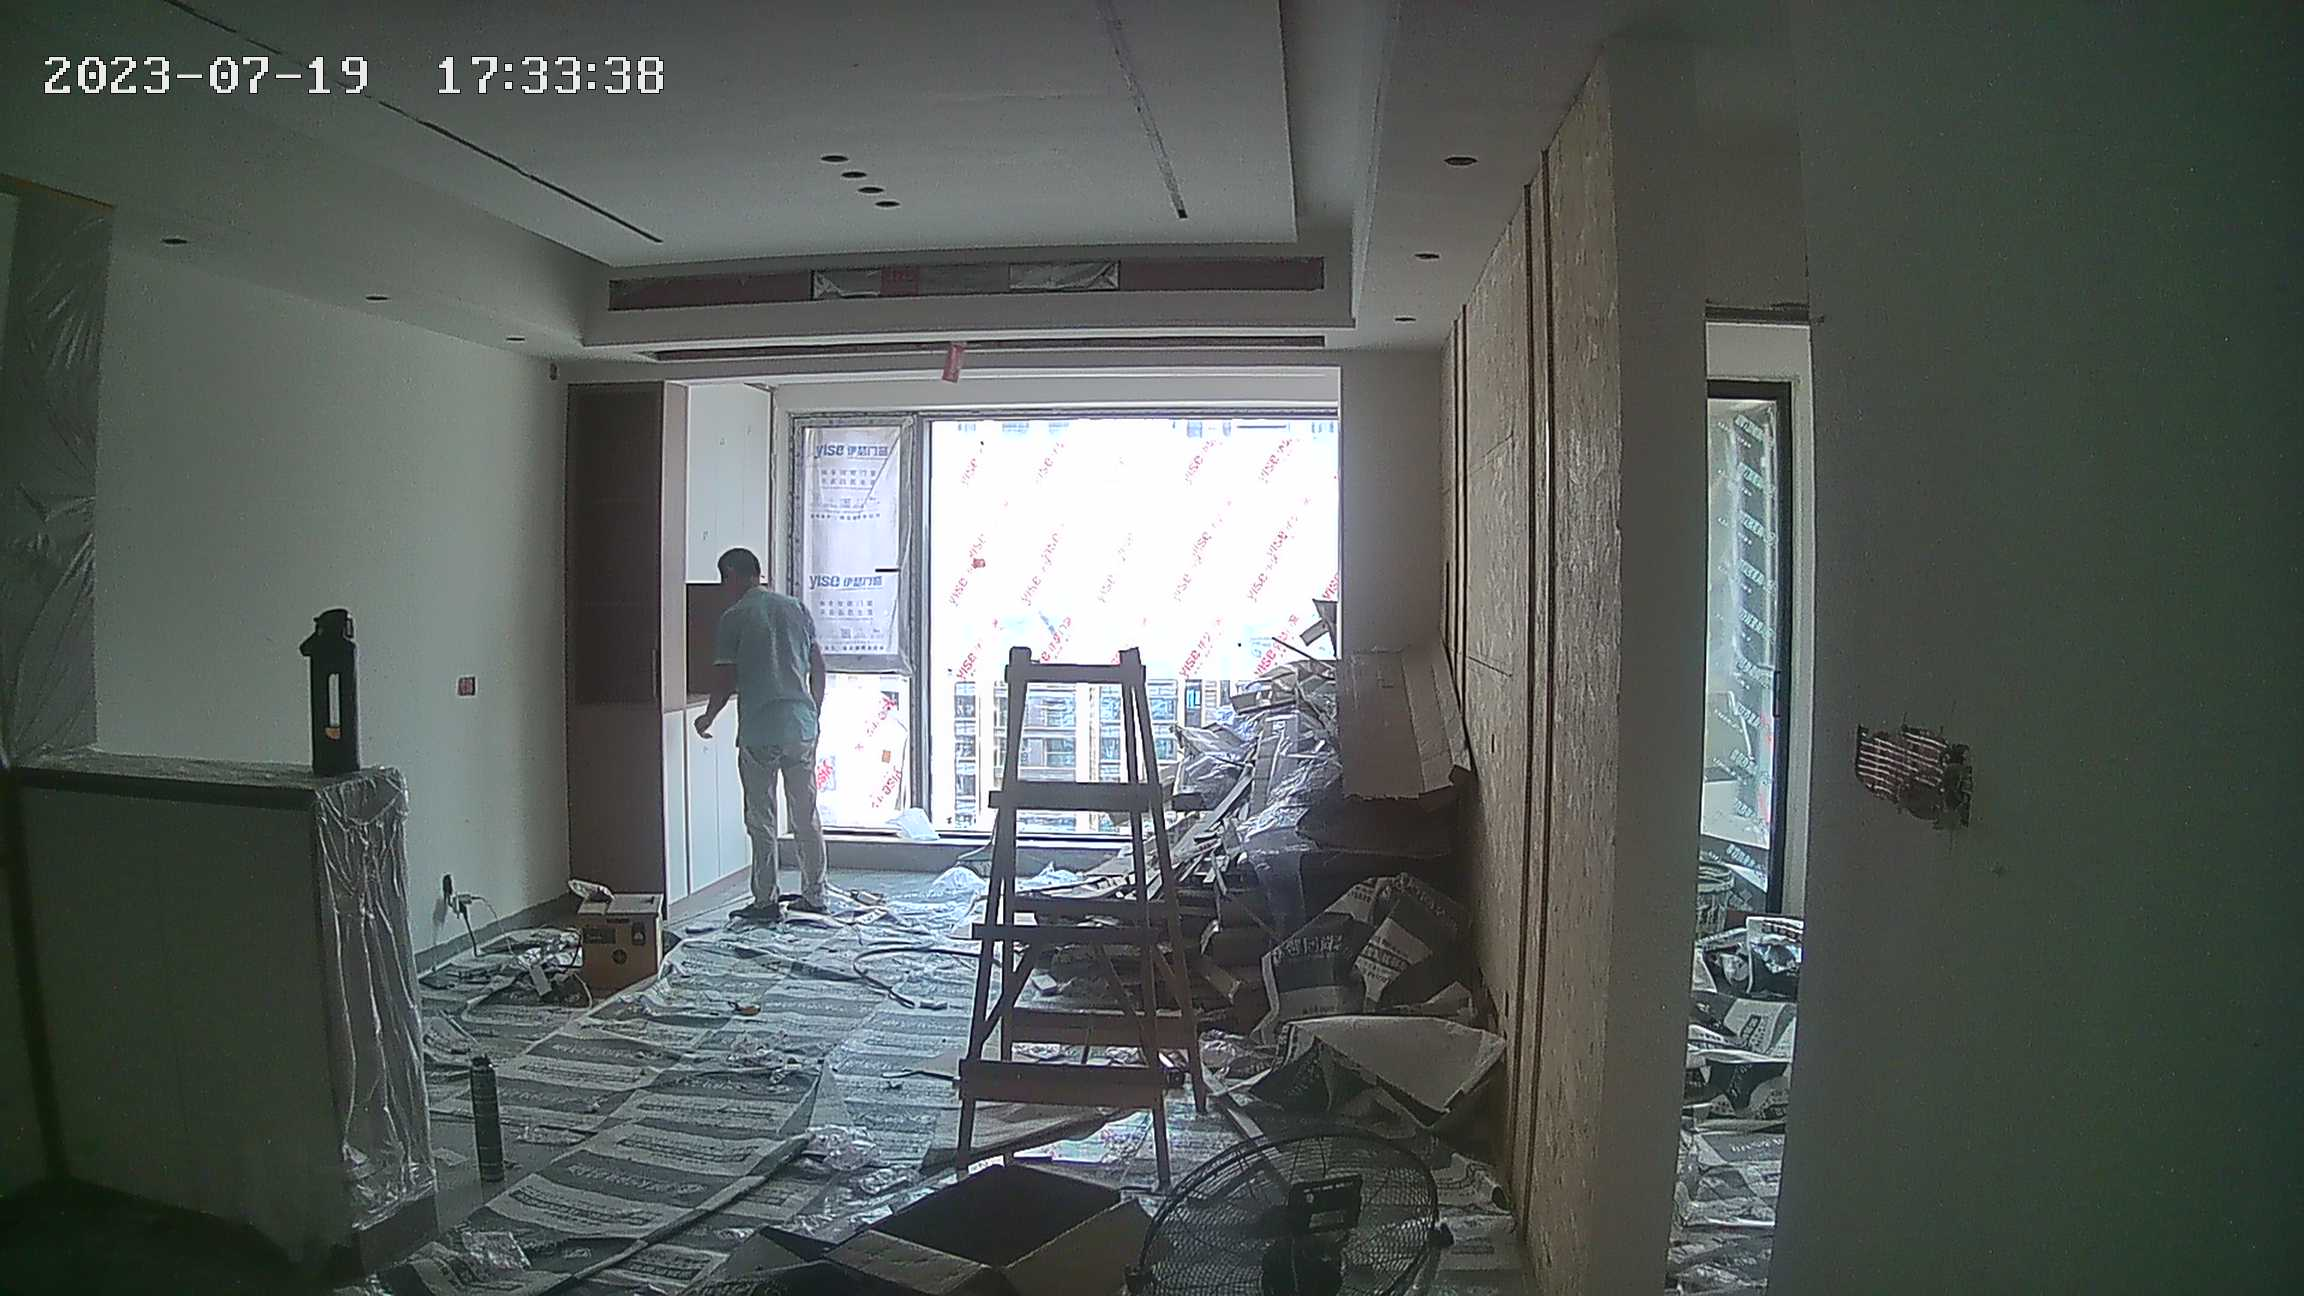people: (695, 548, 836, 930)
window: (792, 412, 1345, 848), (1704, 395, 1769, 891)
